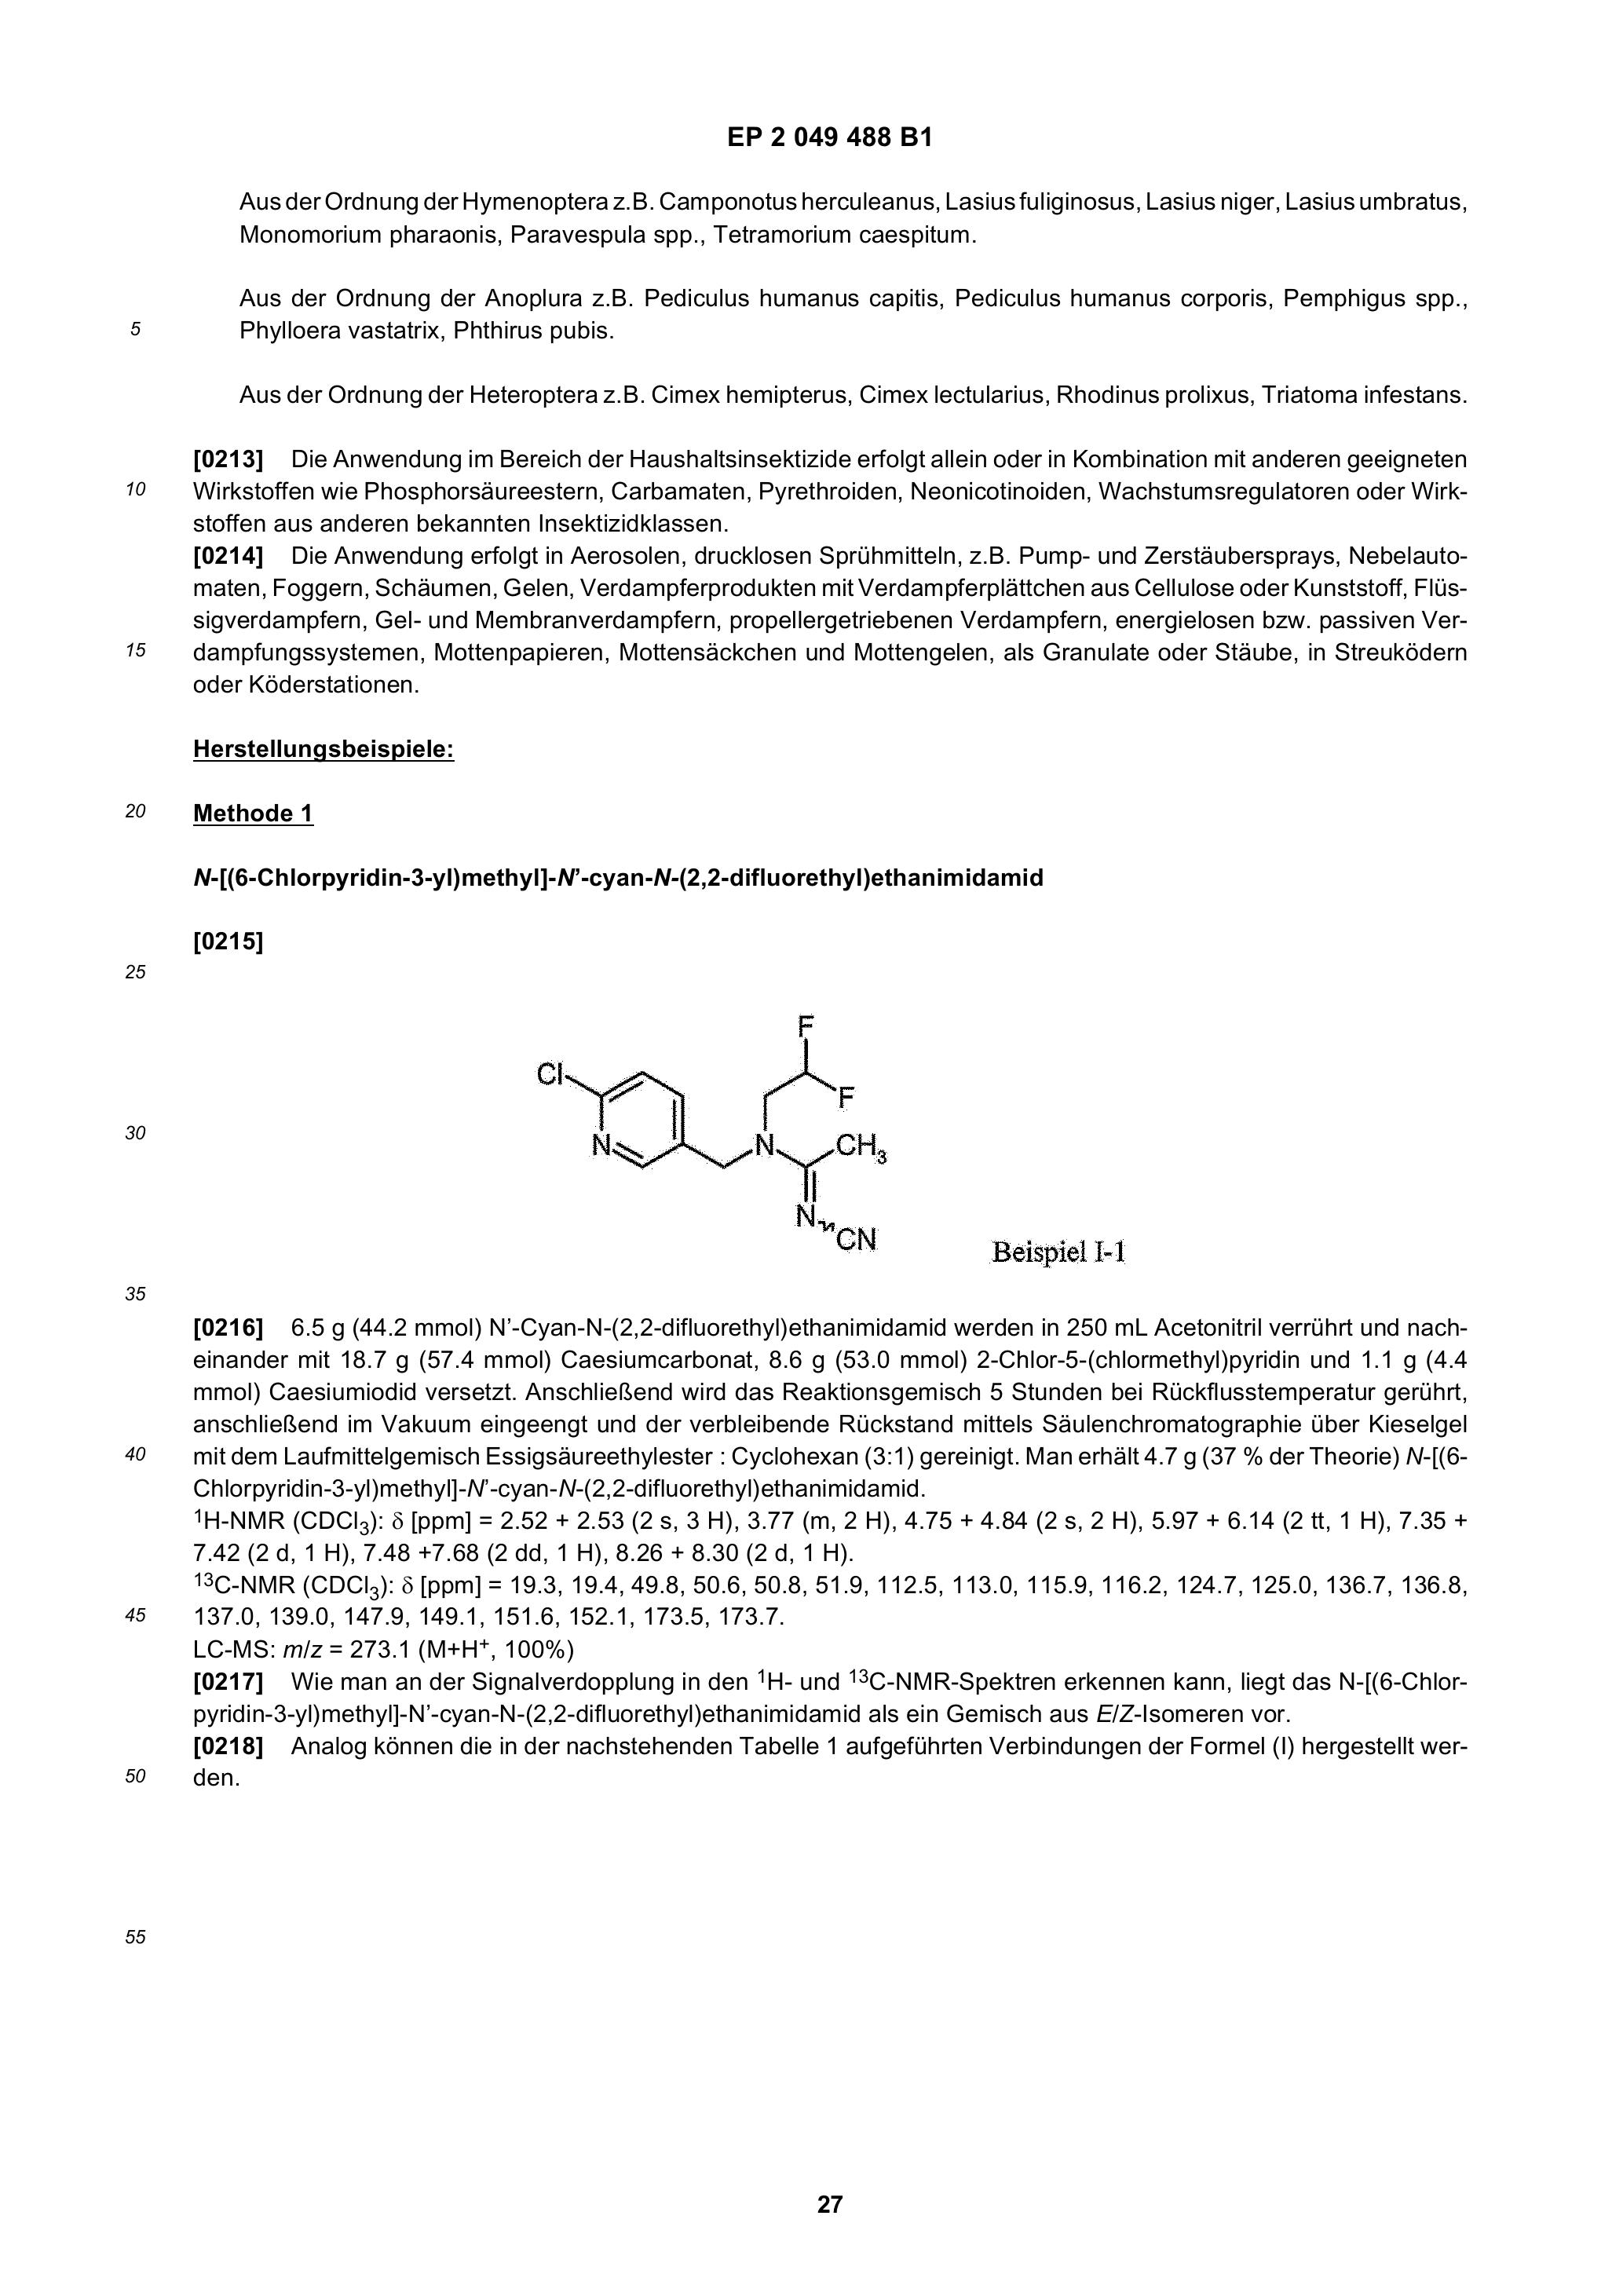relevant-structures: (386, 919, 991, 1296)
substitutes: (193, 1662, 1490, 1729)
